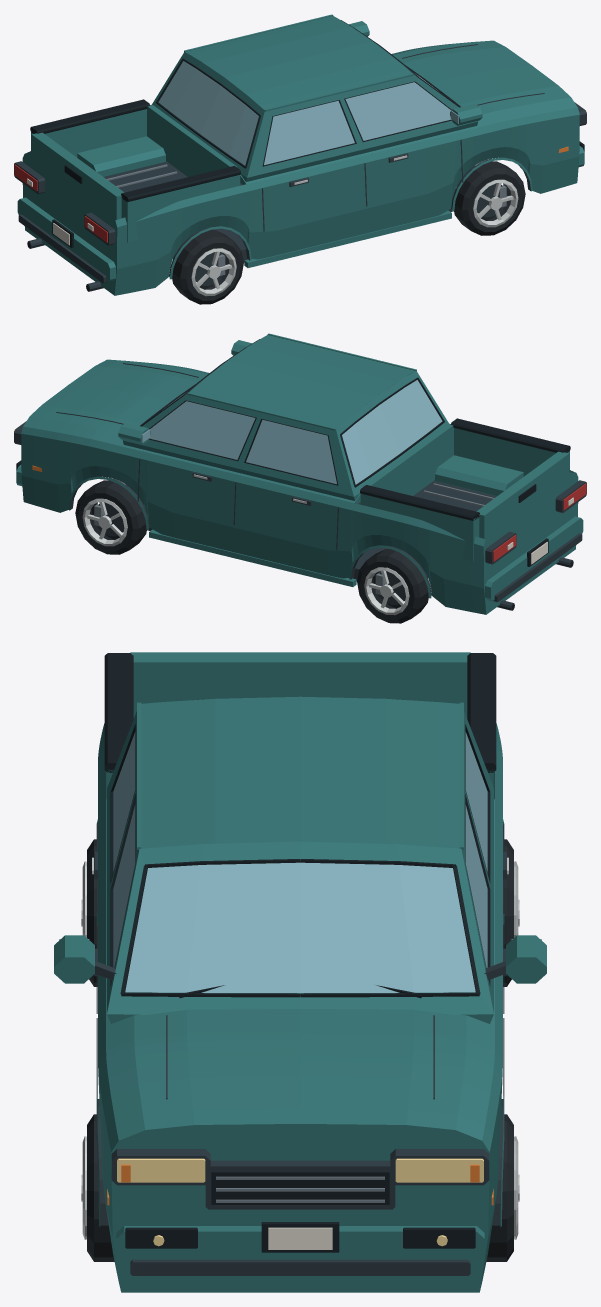
The model's file is b03_compact_unibody_pickup.glb.
The picture shows the model from 3 angles, top to bottom: view 1: azimuth 30°, elevation 25°; view 2: azimuth 150°, elevation 25°; view 3: azimuth 270°, elevation 25°; orthographic projection. The views are drawn at different scales.
Parts seen in each view (by area): view 1: b03_compact_unibody_pickup; view 2: b03_compact_unibody_pickup; view 3: b03_compact_unibody_pickup.
Boxes of the visible parts, <box> form: b03_compact_unibody_pickup: <box>14,14,586,304</box>; b03_compact_unibody_pickup: <box>14,333,586,623</box>; b03_compact_unibody_pickup: <box>54,652,546,1292</box>.
Size of the model in its own units: 5.19 by 1.77 by 2.29.
